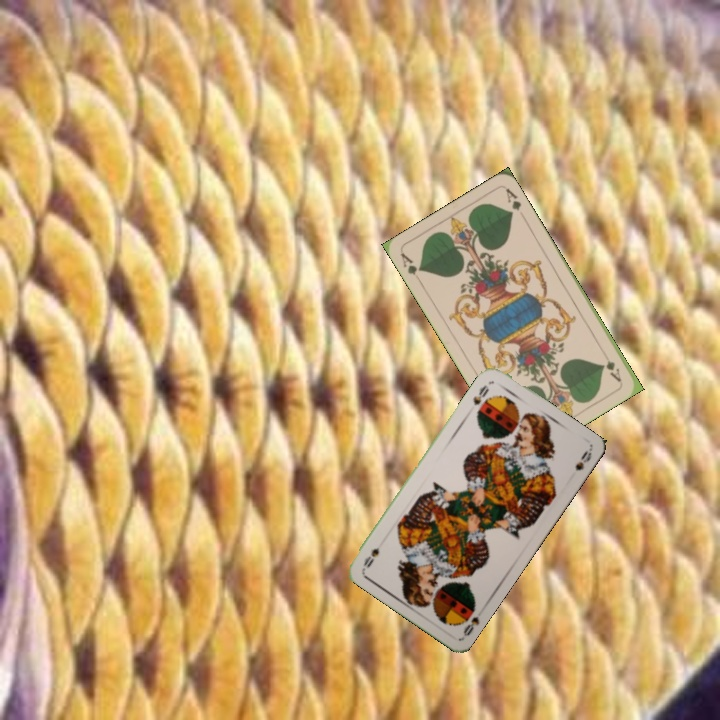GA: (397, 249, 424, 286), (598, 347, 624, 385)
SO: (469, 380, 492, 408), (459, 612, 482, 639)
